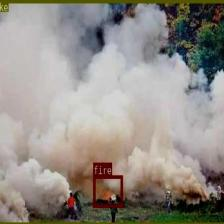fire: (93, 174, 122, 208)
smoke: (0, 0, 224, 224)
